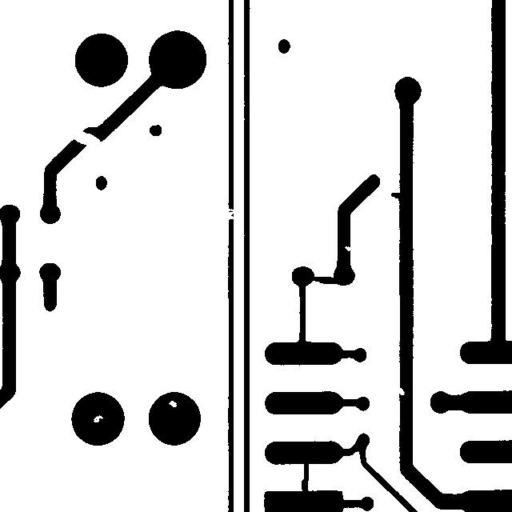copper: (142, 117, 169, 143)
mousebite: (390, 380, 412, 402), (337, 238, 358, 258)
open: (62, 121, 107, 154), (216, 201, 243, 230)
pin-hole: (86, 407, 110, 430), (161, 393, 184, 414)
short: (294, 450, 316, 501), (302, 269, 346, 291)
spur: (383, 185, 411, 209)
